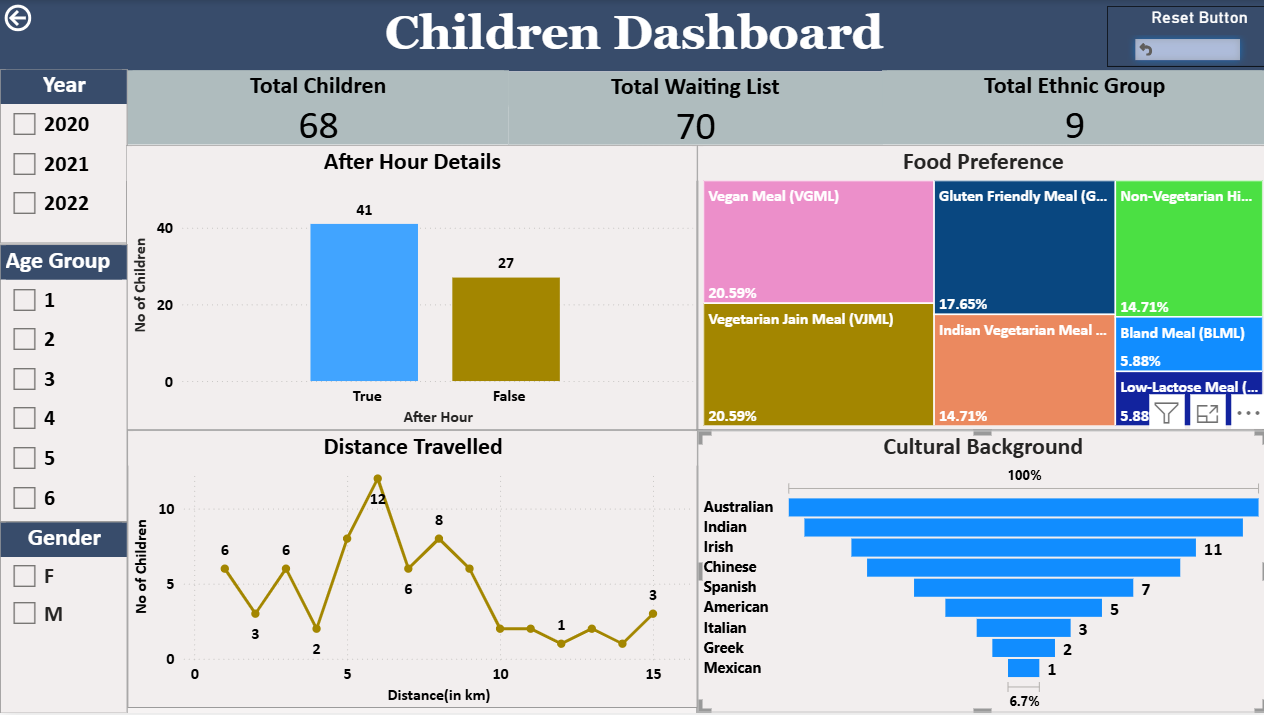

The page's visual inventory and layout, read from the dashboard file:
{"tool":"powerbi","page":{"name":"Children Dahboard","canvas":[1280,720],"ordinal":2},"visuals":[{"type":"textbox","box":[0,0,1280.3,72.1],"z":0},{"type":"card","title":"Total Children","fields":{"Values":["Count(Child.child_id)"]},"box":[128.6,71.5,384.7,74.7],"z":1000},{"type":"card","title":"Total Ethnic Group","fields":{"Values":["Count(Child.cultural_background)"]},"box":[890.4,71.5,389.1,74.7],"z":2000},{"type":"slicer","title":"Year","fields":{"Values":["Enrollment.year"]},"box":[0,70.4,128.6,175.9],"z":3000},{"type":"columnChart","title":"After Hour Details","fields":{"Category":["Child.after_hour"],"Y":["CountNonNull(Child.child_id)"]},"box":[127.6,146.2,576.9,287.1],"z":4000},{"type":"treemap","title":"Food Preference","fields":{"Group":["DietaryRequirement.diet_name"],"Values":["CountNonNull(Child.child_id)"]},"box":[704.5,146.2,575.5,287.1],"z":5000},{"type":"actionButton","box":[0,0,46.2,36.3],"z":6000},{"type":"funnel","title":"Cultural Background","fields":{"Category":["Child.cultural_background"],"Y":["CountNonNull(Child.child_id)"]},"box":[704.1,433.9,575.4,286.1],"z":7000},{"type":"lineChart","title":"Distance Travelled","fields":{"Category":["Child.distance"],"Y":["CountNonNull(Child.child_id)"]},"box":[128.7,433.9,575.4,279.7],"z":8000},{"type":"slicer","title":"Gender","fields":{"Values":["Child.gender"]},"box":[0,526.5,128.6,193.5],"z":9000},{"type":"card","title":"Total Waiting List","fields":{"Values":["Count(ChildWaitlist.child_waitlist_id)"]},"box":[513.3,72.5,377,73.6],"z":10000},{"type":"slicer","title":"Age Group","fields":{"Values":["Child.age"]},"box":[0,246.2,128.6,280.3],"z":11000},{"type":"actionButton","title":"Reset Button","box":[1117.9,5.5,161.6,61.6],"z":12000}]}

Visuals, with their boxes in screenshot pixels (x1, y1, x2, y2), scaled from the page's 1280x720 canvas onto the 1264x715 screenshot:
textbox: locate(0, 0, 1263, 72)
"Total Children" card: locate(127, 71, 507, 145)
"Total Ethnic Group" card: locate(879, 71, 1263, 145)
"Year" slicer: locate(0, 70, 127, 245)
"After Hour Details" columnChart: locate(126, 145, 696, 430)
"Food Preference" treemap: locate(696, 145, 1263, 430)
actionButton: locate(0, 0, 46, 36)
"Cultural Background" funnel: locate(695, 431, 1263, 714)
"Distance Travelled" lineChart: locate(127, 431, 695, 709)
"Gender" slicer: locate(0, 523, 127, 714)
"Total Waiting List" card: locate(507, 72, 879, 145)
"Age Group" slicer: locate(0, 244, 127, 523)
"Reset Button" actionButton: locate(1104, 5, 1263, 67)
